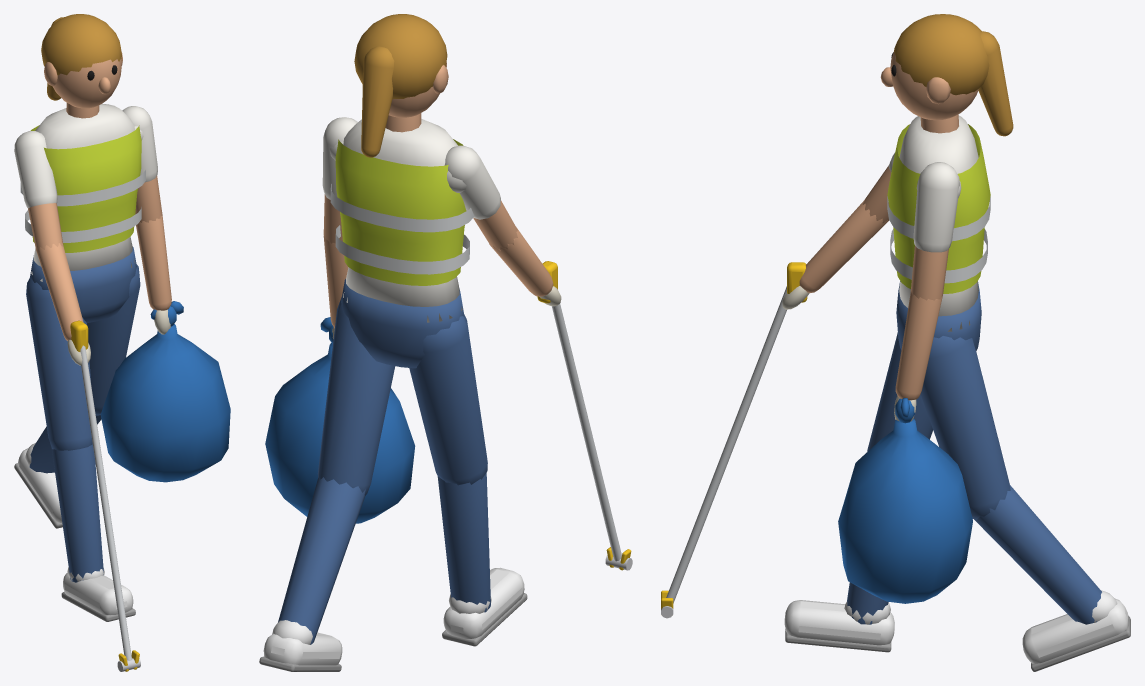
Rendered from volunteer_yellow.fbx.
3 renders of one model, left to right at view 1: azimuth 30°, elevation 25°; view 2: azimuth 150°, elevation 25°; view 3: azimuth 270°, elevation 25°, orthographic. The views are drawn at different scales.
Visible parts, largest first — view 1: volunteer_yellow; view 2: volunteer_yellow; view 3: volunteer_yellow.
Part boxes in pixels (x1=…): volunteer_yellow: x1=14, y1=14, x2=230, y2=671; volunteer_yellow: x1=259, y1=14, x2=632, y2=671; volunteer_yellow: x1=661, y1=14, x2=1130, y2=671.
Bounding box in the file's own units: 0.675 × 1.74 × 1.16.
